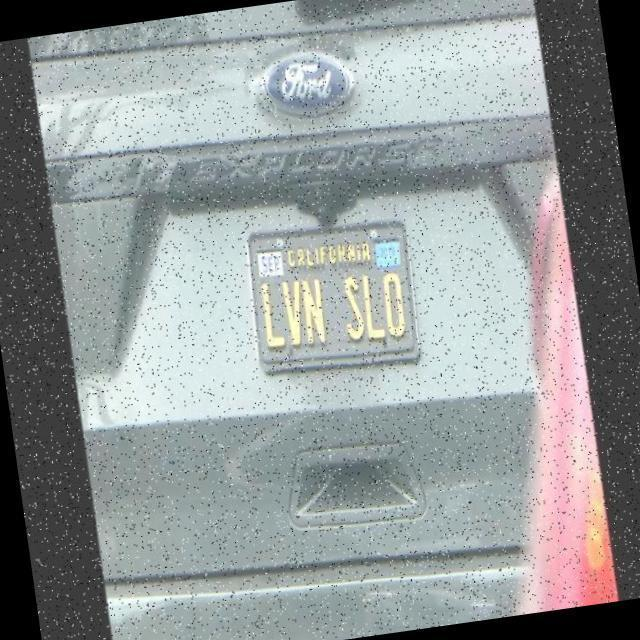license_plate: (227, 182, 441, 422)
